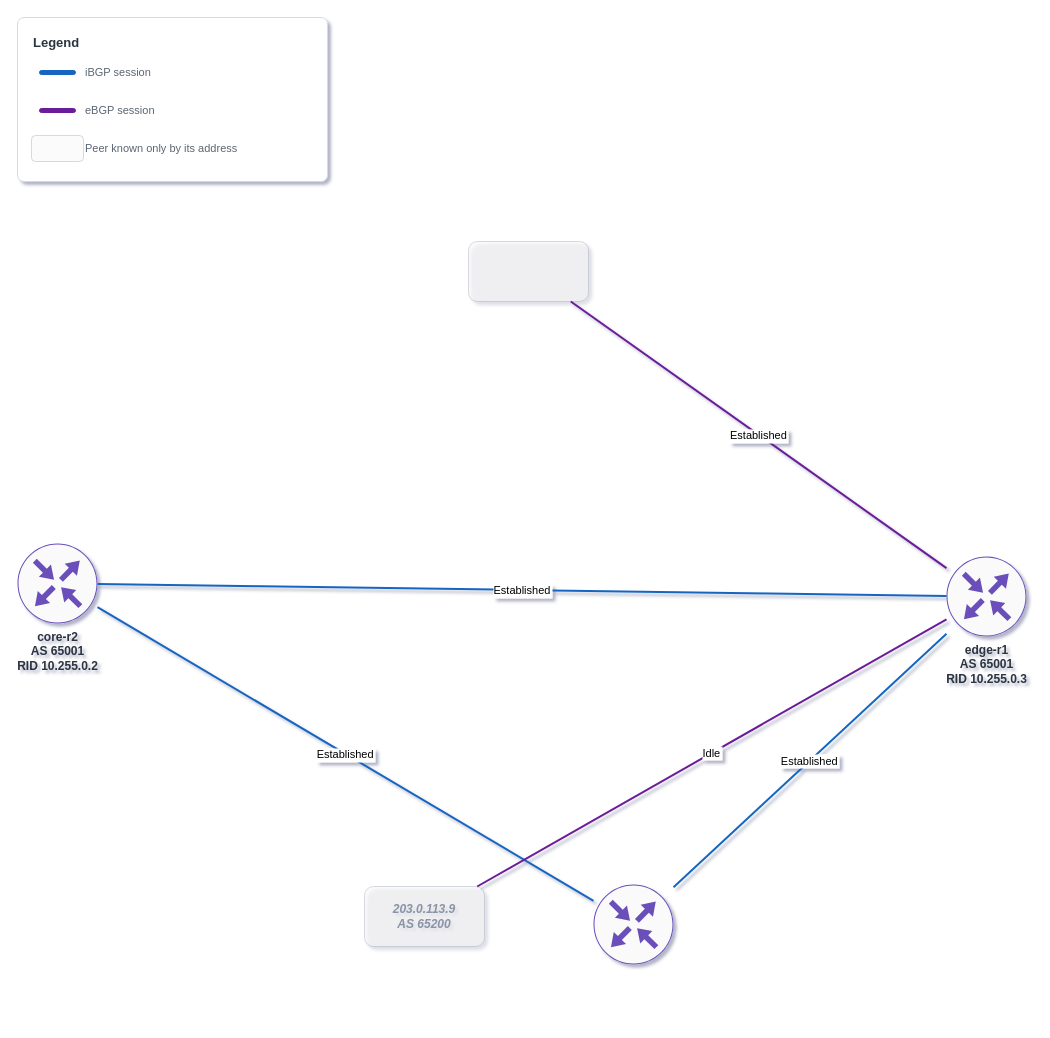
Some shapes in this 1050 by 1038 pixel diagram are drawn without their labels. Each missing label, with the centre of its shape:
"198.51.100.1 AS 65100" belongs at point 528,271.
"core-r1 AS 65001 RID 10.255.0.1" belongs at point 633,924.
